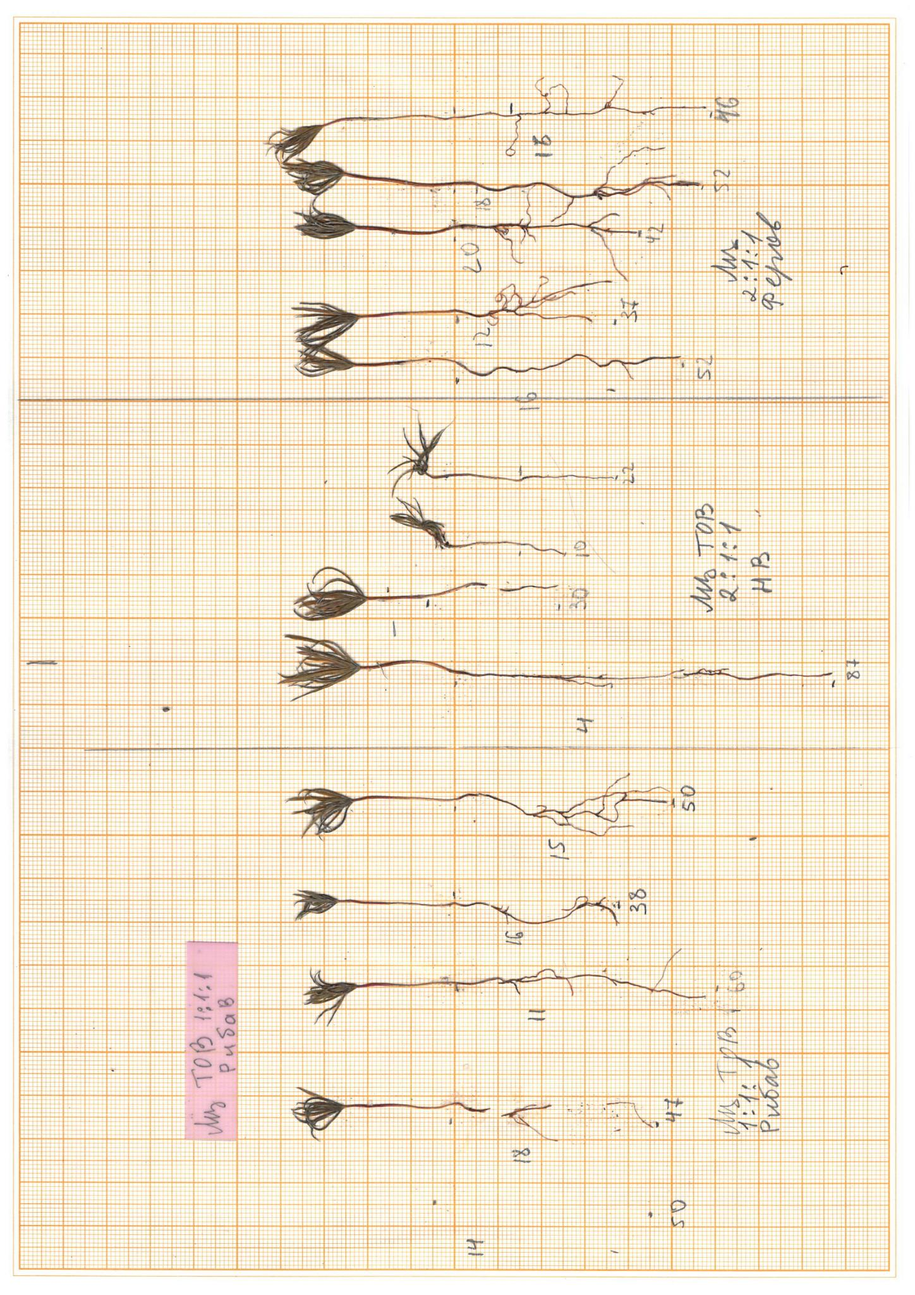Seeding: (278, 632, 837, 711), (264, 78, 712, 159), (298, 959, 708, 1031), (286, 776, 676, 843), (281, 152, 706, 211), (289, 1080, 656, 1148), (290, 199, 644, 262), (293, 279, 616, 343), (382, 415, 624, 499), (293, 339, 684, 383), (286, 563, 560, 624), (291, 882, 621, 932), (391, 494, 572, 561)
